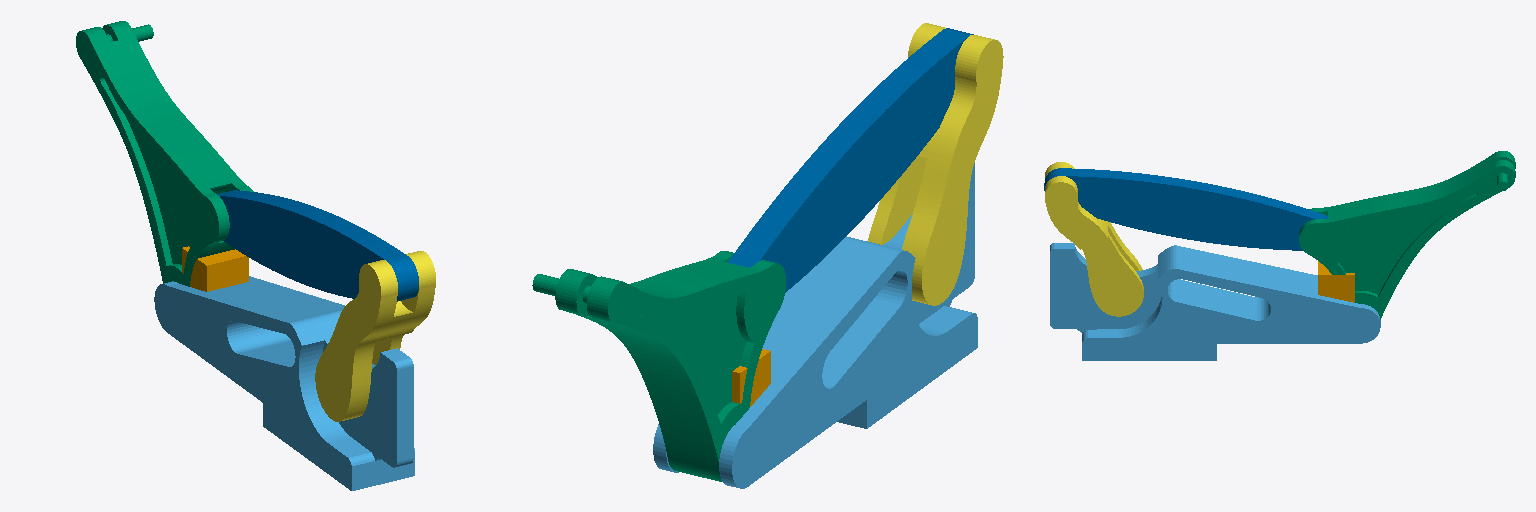
robot.urdf — urdf_assembly:
<?xml version='1.0' encoding='utf-8'?>

<!-- Sostituire i joint continuos con revolute e limiti finti-->

<robot name="urdf_assembly">

    <link name="base_link">
        <visual>
            <origin xyz="0 0 0" rpy="0 0 0"/>
            <geometry>
                <box size="0.01 0.01 0.01"/>
            </geometry>
        </visual>
    </link> 
    
    <link name="body">
        <inertial>
            <origin xyz="0.0 -0.036 -0.0082" rpy="0.0 0.0 0.0" />
            <mass value="0.1223" />
            <inertia ixx="5.91121e-05" iyy="7.75083e-06" izz="5.56796e-05" ixy="-8.991e-12" iyz="-1.287e-06" ixz="-1.43744e-12" />
        </inertial>
        <visual name="body_visual">
            <origin xyz="0.0 0.0 0.0" rpy="0.0 0.0 0.0" />
            <geometry>
                <mesh filename="package://exoskeleton_description/meshes/body.stl" scale="0.001 0.001 0.001" />
            </geometry>
        </visual>
        <collision name="body_collision">
            <origin xyz="0.0 0.0 0.0" rpy="0.0 0.0 0.0" />
            <geometry>
                <mesh filename="package://exoskeleton_description/meshes/body.stl" scale="0.001 0.001 0.001" />
            </geometry>
        </collision>
    </link>

    <link name="link_AC">
        <inertial>
            <origin xyz="0.0222 -0.008172 0.0" rpy="0.0 0.0 0.0" />
            <mass value="0.06234" />
            <inertia ixx="1.15274e-05" iyy="9.5782e-06" izz="2.01595e-05" ixy="6.5499e-06" iyz="7.12e-08" ixz="-4.923e-08" />
        </inertial>
        <visual name="link_AC_visual">
            <origin xyz="0.007356 0.008556 0.0" rpy="-2.9131 -1.5708 0.0" />
            <geometry>
                <mesh filename="package://exoskeleton_description/meshes/link_AC.stl" scale="0.001 0.001 0.001" />
            </geometry>
        </visual>
        <collision name="link_AC_collision">
            <origin xyz="0.007356 0.008556 0.0" rpy="-2.9131 -1.5708 0.0" />
            <geometry>
                <mesh filename="package://exoskeleton_description/meshes/link_AC.stl" scale="0.001 0.001 0.001" />
            </geometry>
        </collision>
    </link>

    <link name="rear_crank">
        <inertial>
            <origin xyz="0.01361 0.007049 -0.000762" rpy="0.0 0.0 0.0" />
            <mass value="0.02908" />
            <inertia ixx="1.70292e-06" iyy="3.98339e-06" izz="4.76408e-06" ixy="-1.7956e-06" iyz="-1.13744e-07" ixz="-2.04e-07" />
        </inertial>
        <visual name="rear_crank_visual">
            <origin xyz="0.0171 -0.0588 0.0" rpy="-2.8798 -1.5708 0.0" />
            <geometry>
                <mesh filename="package://exoskeleton_description/meshes/rear_crank.stl" scale="0.001 0.001 0.001" />
            </geometry>
        </visual>
        <collision name="rear_crank_collision">
            <origin xyz="0.0171 -0.0588 0.0" rpy="-2.8798 -1.5708 0.0" />
            <geometry>
                <mesh filename="package://exoskeleton_description/meshes/rear_crank.stl" scale="0.001 0.001 0.001" />
            </geometry>
        </collision>
    </link>

    <link name="connecting_rod">
        <inertial>
            <origin xyz="-0.006793 -0.03467 0.0" rpy="0.0 0.0 0.0" />
            <mass value="0.03844" />
            <inertia ixx="1.55767e-05" iyy="1.21347e-06" izz="1.663e-05" ixy="-2.90187e-06" iyz="0.0" ixz="0.0" />
        </inertial>
        <visual name="connecting_rod_visual">
            <origin xyz="-0.03087 -0.06882 0.0" rpy="-3.132 -1.5708 0.0" />
            <geometry>
                <mesh filename="package://exoskeleton_description/meshes/connecting_rod.stl" scale="0.001 0.001 0.001" />
            </geometry>
        </visual>
        <collision name="connecting_rod_collision">
            <origin xyz="-0.03087 -0.06882 0.0" rpy="-3.132 -1.5708 0.0" />
            <geometry>
                <mesh filename="package://exoskeleton_description/meshes/connecting_rod.stl" scale="0.001 0.001 0.001" />
            </geometry>
        </collision>
    </link>


<!--   JOINTS  -->


    <joint name="rev_crank" type="revolute">
        <origin xyz="0.0 -0.05876 -0.0008932" rpy="-3.1416 -1.5708 0.0" />
        <parent link="body" />
        <child link="rear_crank" />
        <axis xyz="0.0 0.0 1.0" />
        <limit lower="-3.1416" upper="3.1416" effort="1000000" velocity="1000000" />
    </joint>

    <joint name="body_fixed" type="fixed">
        <parent link="base_link"/>
        <child link="body"/>
        <origin xyz="0 0 0" rpy="0 0 0"/>
    </joint>

    <joint name="rev_body2linkAC" type="revolute">
        <origin xyz="0.0 0.006701 -0.0089853" rpy="-3.1416 -1.5708 0.0" />
        <parent link="body" />
        <child link="link_AC" />
        <axis xyz="0.0 0.0 1.0" />
        <limit lower="-3.1416" upper="3.1416" effort="1000000" velocity="1000000" />
    </joint>

    <joint name="rev_crank2shaft" type="revolute">
        <origin xyz="0.02981 0.01566 0.0" rpy="0.0 0.0 0.0" />
        <parent link="rear_crank" />
        <child link="connecting_rod" />
        <axis xyz="0.0 0.0 1.0" />
        <limit lower="-3.1416" upper="3.1416" effort="1000000" velocity="1000000" />
    </joint>




    <!-- IMPORTANTE: questi vincoli sono eliminati dall'urdf per poter caricare su pinocchio una struttura ad albero (catena cinematica aperta). 
        Per chiudere la catena si impiegano dei vincoli numerici. Tutto nel nodo exo_kniematics_node


    <joint name="rev_shaft2linkAC" type="revolute">
        <origin xyz="0.02446 0.01180 0.0" rpy="0.0 0.0 0.0" />
        <parent link="link_AC" />
        <child link="connecting_rod" />
        <axis xyz="0.0 0.0 1.0" />
        <limit lower="-3.1416" upper="3.1416" effort="1000000" velocity="1000000" />
    </joint>
    -->

</robot>

--- Render facts (derived) ---
The picture shows the robot from 3 angles, left to right: view 1: azimuth 30°, elevation 25°; view 2: azimuth 150°, elevation 25°; view 3: azimuth 270°, elevation 25°; orthographic projection.
Robot: urdf_assembly — 5 links, 4 joints (3 revolute, 1 fixed); root link base_link; default pose: all joints at 0.
Links seen in each view (by area): view 1: body, link_AC, connecting_rod, rear_crank, base_link; view 2: body, link_AC, connecting_rod, rear_crank, base_link; view 3: body, link_AC, connecting_rod, rear_crank, base_link.
Link boxes in pixels (bbox=[...]): body: bbox=[154, 276, 414, 490]; link_AC: bbox=[76, 21, 253, 286]; connecting_rod: bbox=[217, 190, 418, 301]; rear_crank: bbox=[315, 251, 435, 421]; base_link: bbox=[182, 246, 248, 291]; body: bbox=[653, 163, 977, 488]; link_AC: bbox=[532, 251, 785, 481]; connecting_rod: bbox=[728, 28, 973, 292]; rear_crank: bbox=[868, 23, 1003, 305]; base_link: bbox=[732, 349, 770, 406]; body: bbox=[1050, 243, 1380, 360]; link_AC: bbox=[1299, 151, 1515, 319]; connecting_rod: bbox=[1044, 168, 1327, 250]; rear_crank: bbox=[1045, 162, 1143, 316]; base_link: bbox=[1318, 261, 1354, 302].
Size in the robot's own frame: 0.018 by 0.1274 by 0.0571 metres.
4 mesh visuals loaded from 4 distinct referenced files (4 binary STL).
